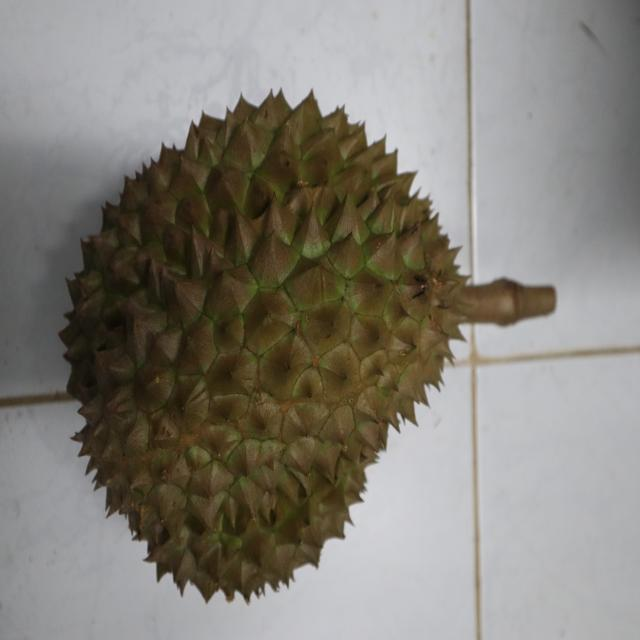mature: (56, 83, 471, 606)
